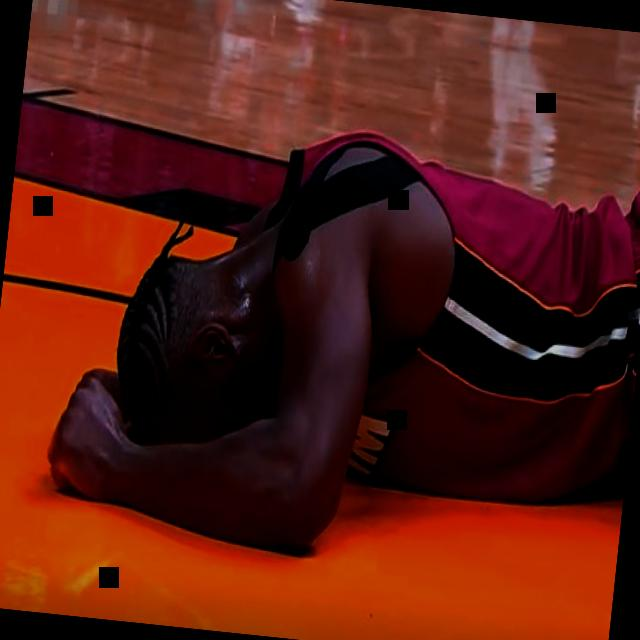Fall-Detected: (2, 80, 640, 613)
